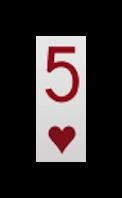5H: (40, 41, 83, 158)
